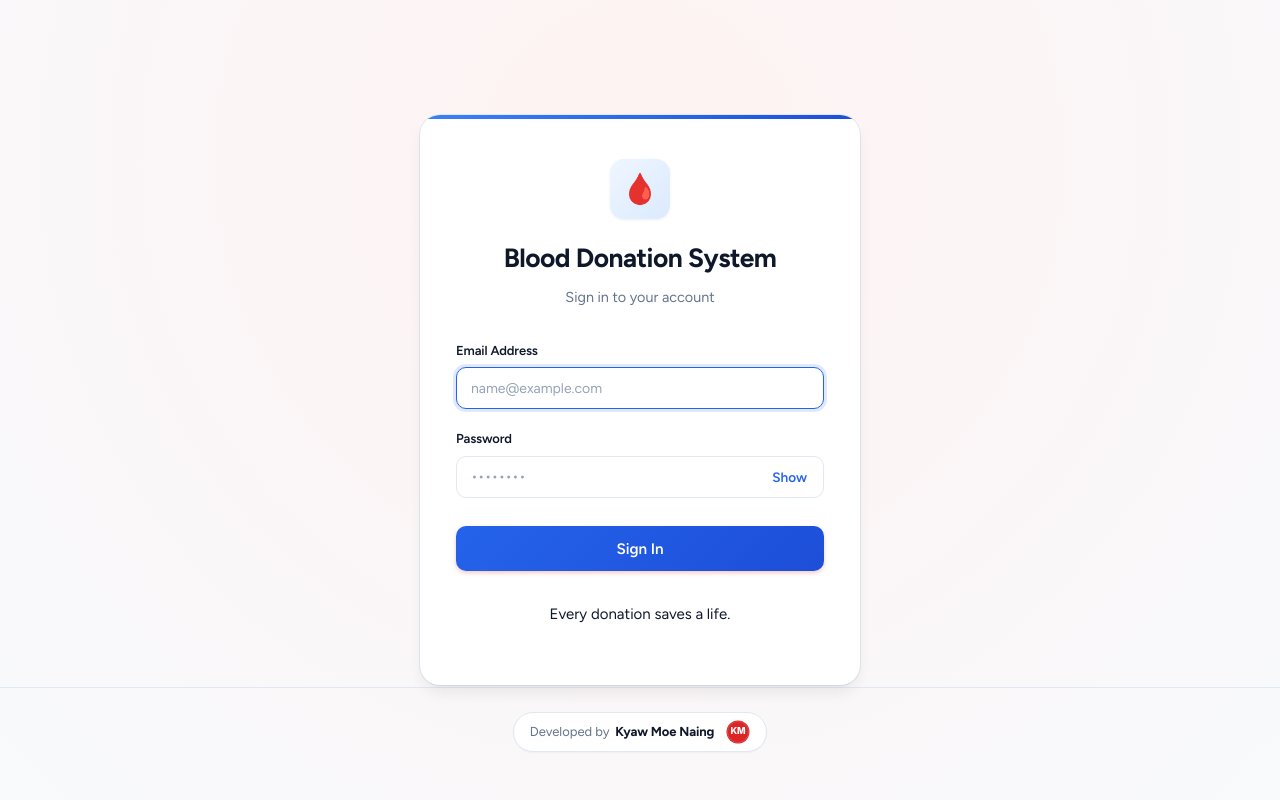
Test: Login Page › validates email format and password minimum length
In the field labelled "Email Address": x=640, y=388 [456,367,824,409], type "not-an-email"
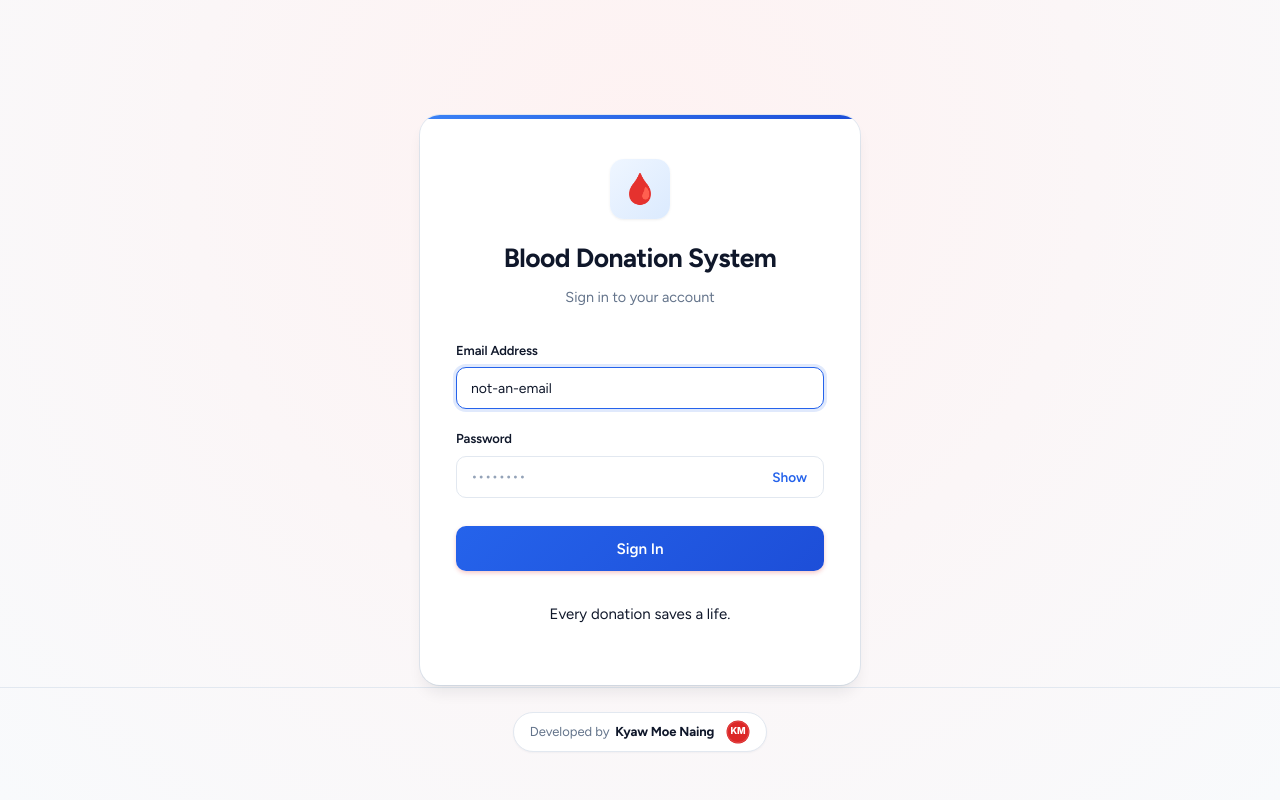
In the password field labelled "Password": x=640, y=477 [456,456,824,498], type "short"
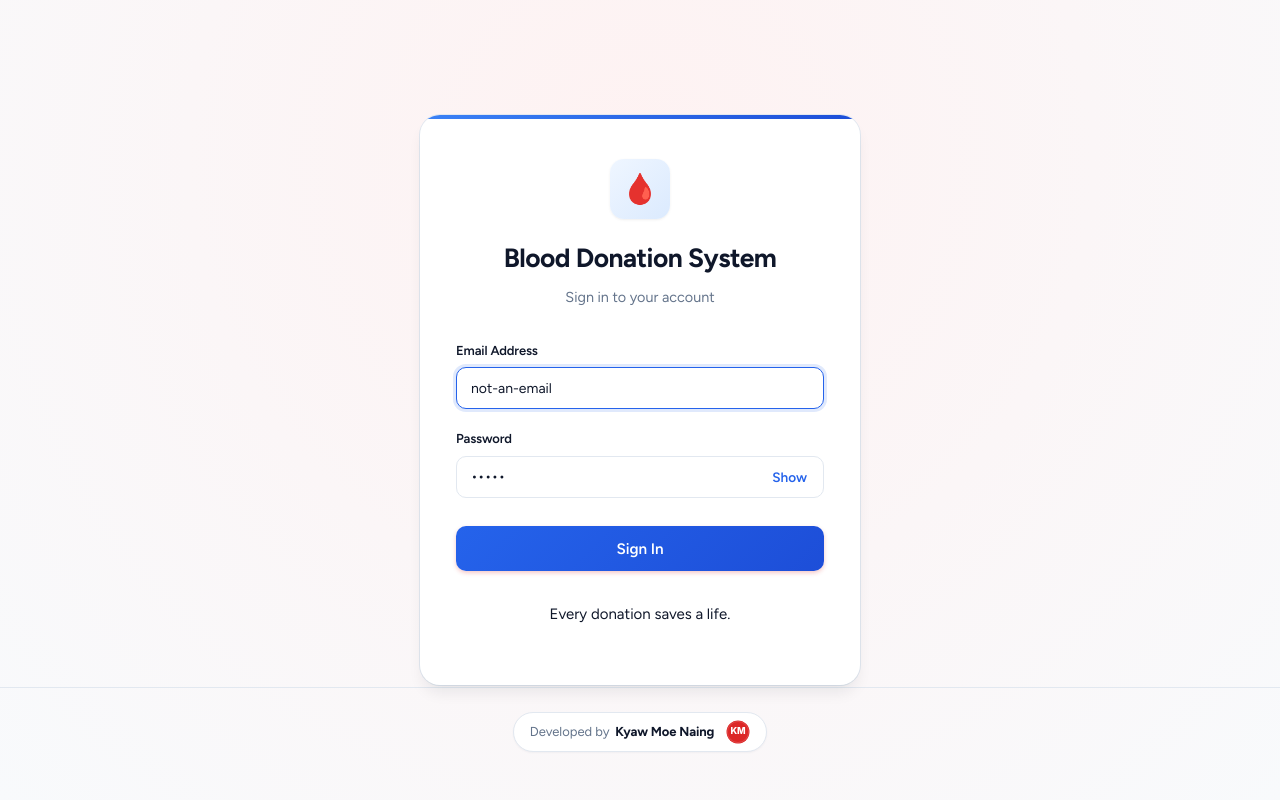
Click the button "Sign In": x=640, y=549 [456,526,824,571]
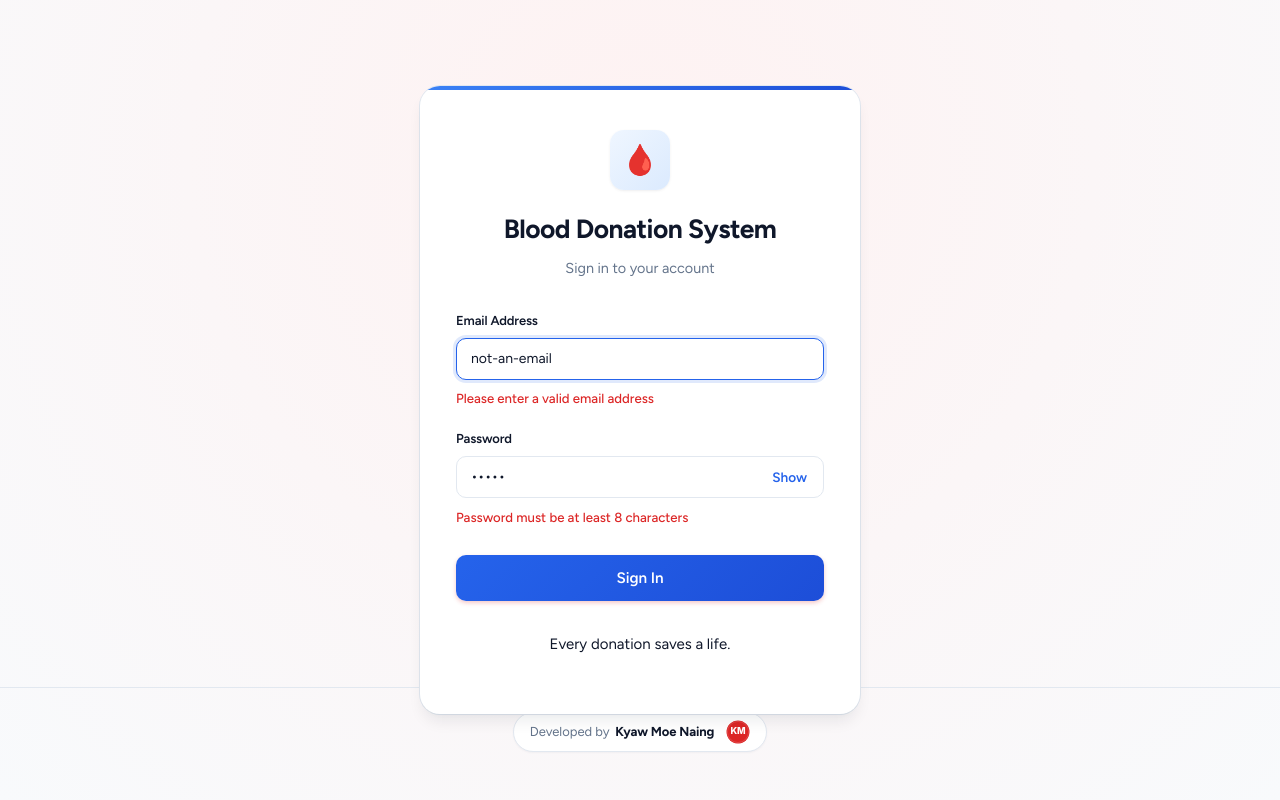
Result: the text "Please enter a valid email address" is shown at [456,390,654,406]
Result: the text "Password must be at least 8 characters" is shown at [456,508,688,524]
